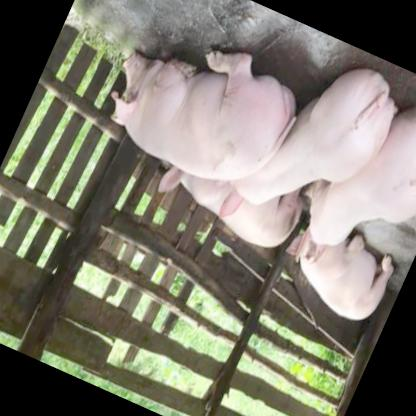Pig: (85, 5, 309, 199), (269, 219, 403, 343)
